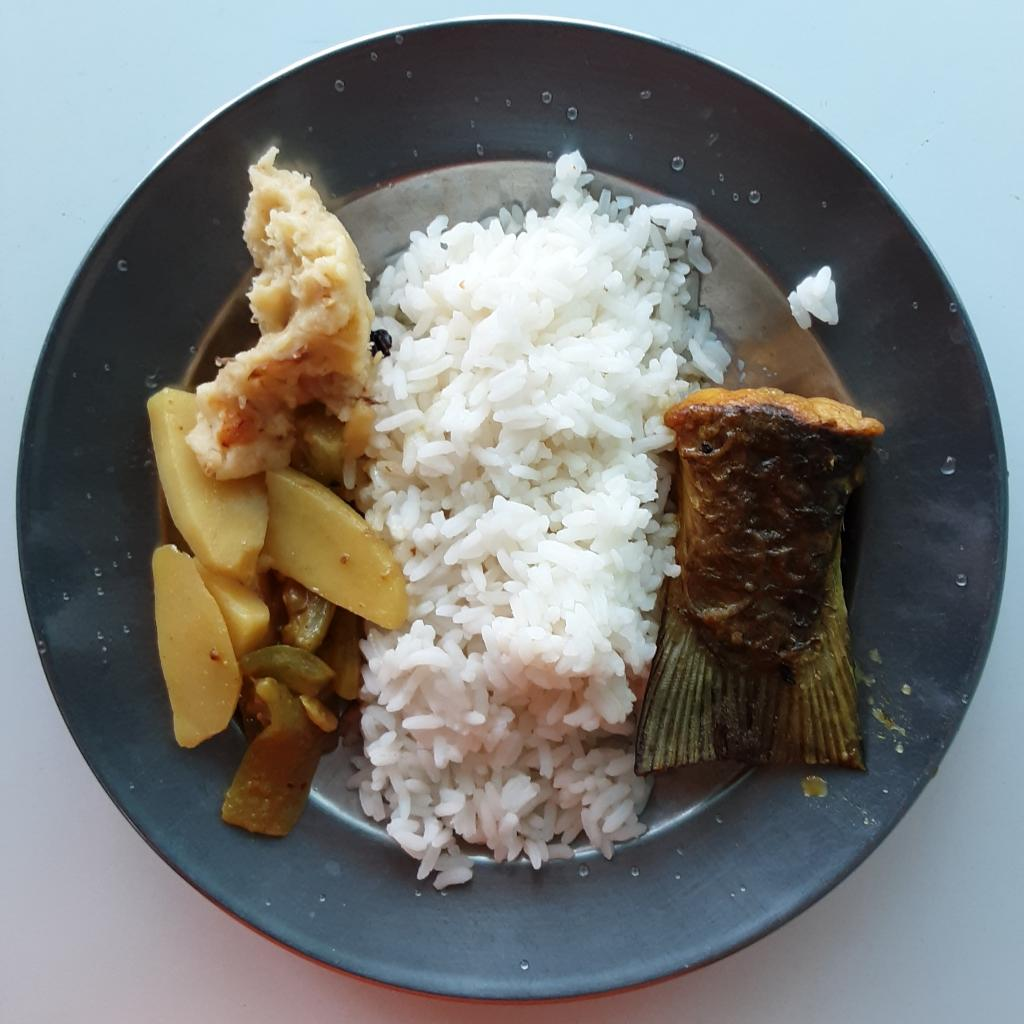dundol: (222, 574, 368, 838)
fish: (642, 388, 882, 775)
potato: (147, 144, 422, 750)
rice: (339, 145, 730, 889)
